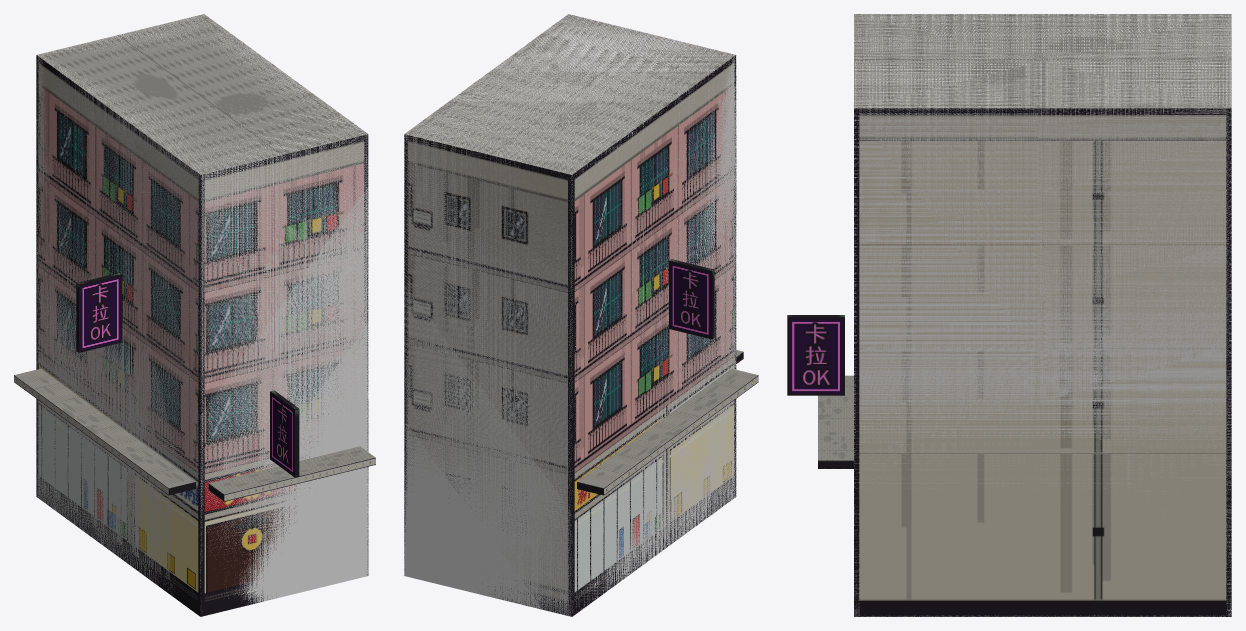
3 renders of one model, left to right at view 1: azimuth 30°, elevation 25°; view 2: azimuth 150°, elevation 25°; view 3: azimuth 270°, elevation 25°, orthographic. The views are drawn at different scales.
Visible parts, largest first — view 1: 19D-E13, COL_19D-E13_0; view 2: 19D-E13, COL_19D-E13_0; view 3: 19D-E13, COL_19D-E13_0.
Boxes of the visible parts, x1,y1,x2,y2 form: 19D-E13: (14, 14, 375, 616); COL_19D-E13_0: (36, 14, 368, 616); 19D-E13: (404, 14, 758, 616); COL_19D-E13_0: (404, 14, 736, 616); 19D-E13: (787, 14, 1231, 616); COL_19D-E13_0: (854, 14, 1231, 616).
Size of the model in its own units: 8.05 by 15.6 by 12.35.
Materials: 1 (1 with a texture image).
